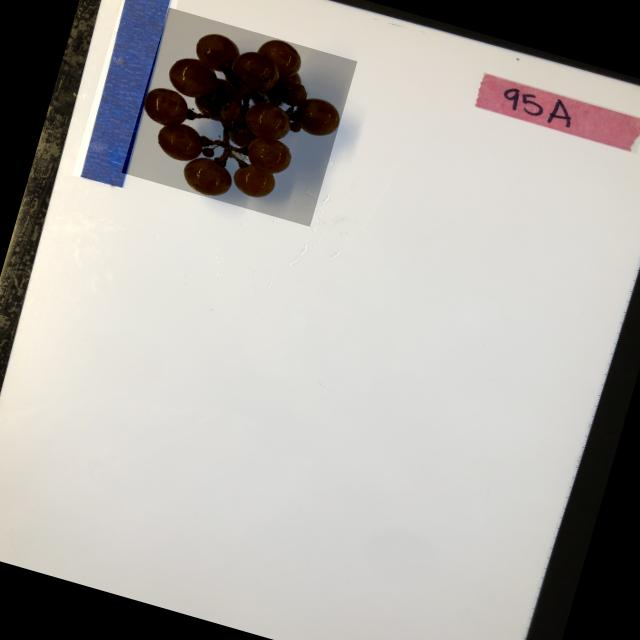grape_cluster: (120, 8, 357, 226)
index: (472, 71, 640, 153)
measure_label: (71, 0, 184, 189)
